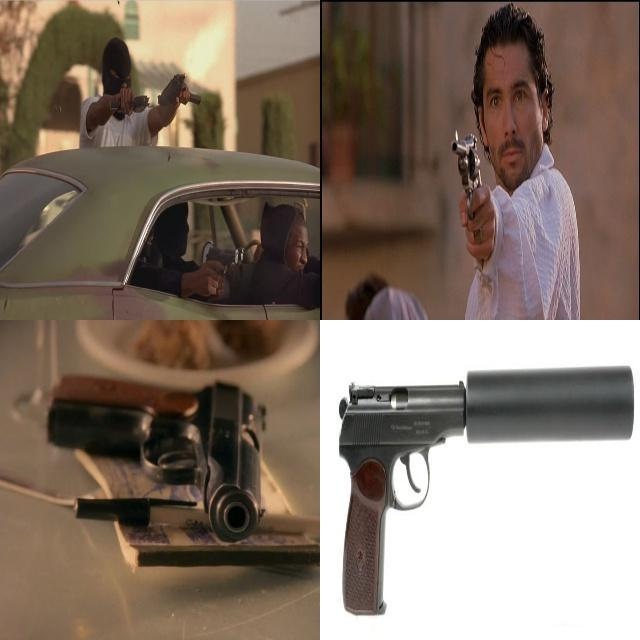gun-knife-thesis - v11 Yolov5 augmented: (331, 342, 639, 639), (41, 362, 267, 547), (447, 123, 487, 260), (155, 52, 205, 125), (199, 234, 238, 297), (109, 80, 151, 125)
